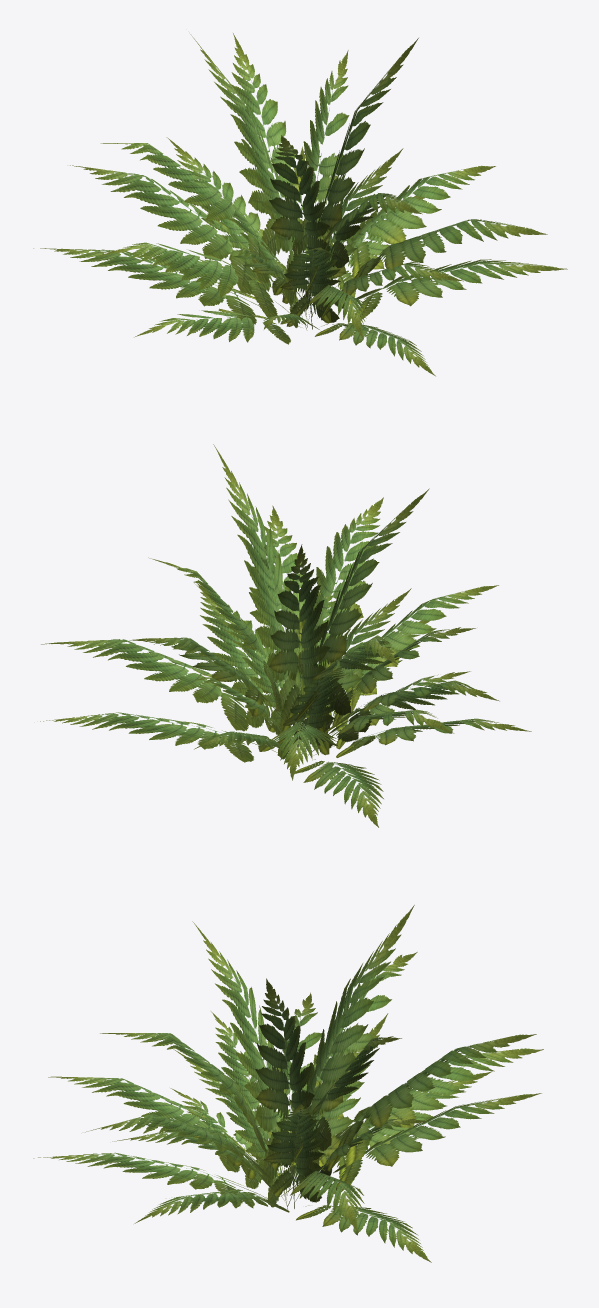
File: Fern.fbx
3 renders of one model, top to bottom at view 1: azimuth 30°, elevation 25°; view 2: azimuth 150°, elevation 25°; view 3: azimuth 270°, elevation 25°, orthographic. The views are drawn at different scales.
Parts seen in each view (by area): view 1: Group1; view 2: Group1; view 3: Group1.
Boxes of the visible parts, left/top/right/bottom form: Group1: left=33, top=33, right=567, bottom=376; Group1: left=40, top=444, right=531, bottom=827; Group1: left=33, top=905, right=543, bottom=1262.
Bounding box in the file's own units: 112 × 68.43 × 114.
